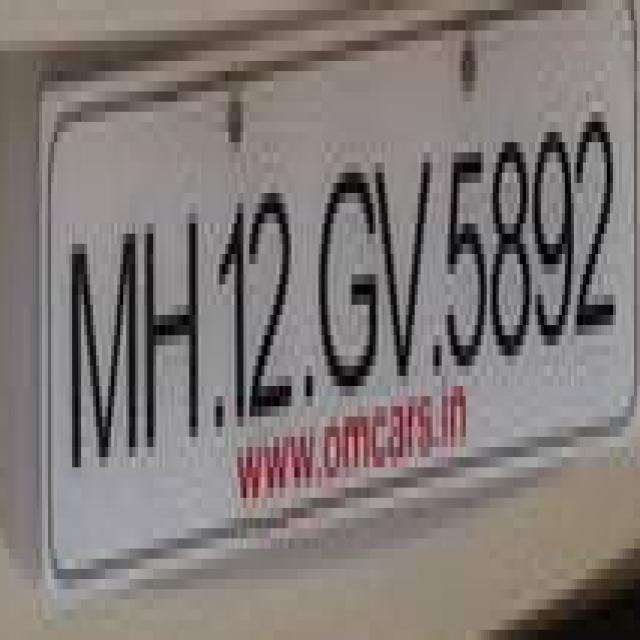license_plate: (30, 0, 640, 518)
